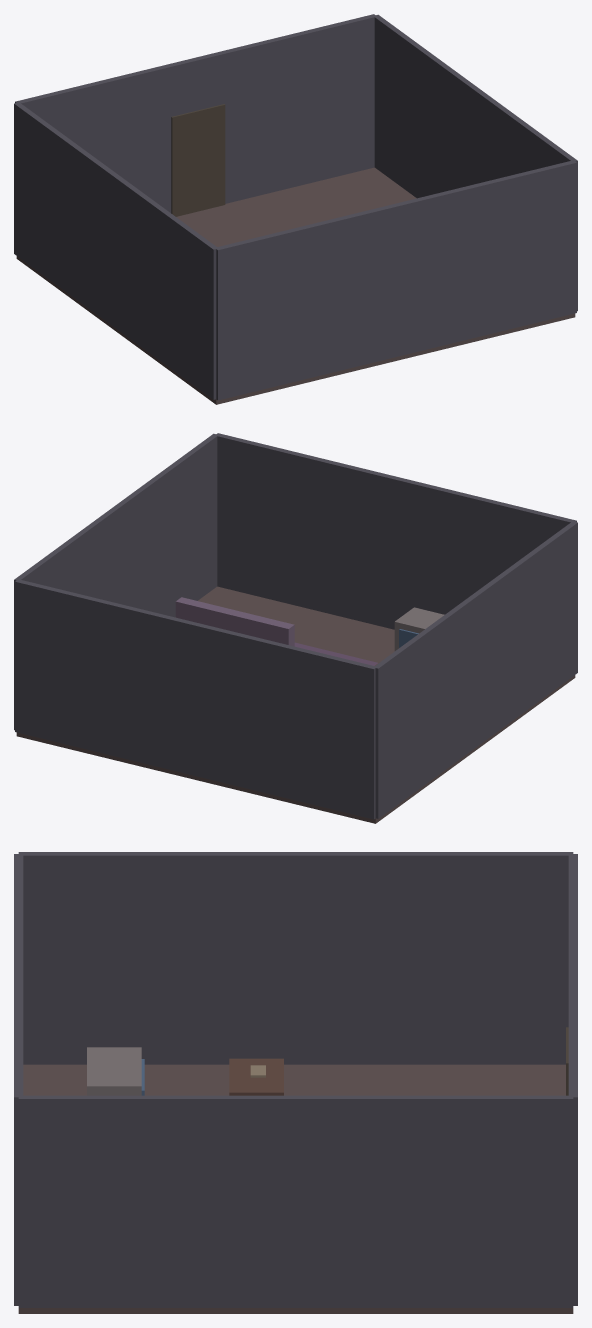
File: salaIncompleta.obj
The picture shows the model from 3 angles, top to bottom: view 1: azimuth 30°, elevation 25°; view 2: azimuth 150°, elevation 25°; view 3: azimuth 270°, elevation 25°; orthographic projection. The views are drawn at different scales.
Parts seen in each view (by area): view 1: salaIncompleta_c2_12, salaIncompleta_c2_13, salaIncompleta_c2_10, salaIncompleta_c2_11, salaIncompleta_c2_9, salaIncompleta_c2_14; view 2: salaIncompleta_c2_13, salaIncompleta_c2_12, salaIncompleta_c2_10, salaIncompleta_c2_11, salaIncompleta_c2_9, salaIncompleta_c2_17, salaIncompleta_c2_20; view 3: salaIncompleta_c2_11, salaIncompleta_c2_10, salaIncompleta_c2_9, salaIncompleta_c2_13, salaIncompleta_c2_12, salaIncompleta_c2_20, salaIncompleta_c2_18.
Part boxes in pixels (x1,y1,x2,y2): salaIncompleta_c2_12: (215,160,576,400); salaIncompleta_c2_13: (15,14,375,212); salaIncompleta_c2_10: (14,103,217,399); salaIncompleta_c2_11: (373,14,577,311); salaIncompleta_c2_9: (16,167,575,404); salaIncompleta_c2_14: (171,104,225,216); salaIncompleta_c2_13: (15,579,376,819); salaIncompleta_c2_12: (216,433,576,629); salaIncompleta_c2_10: (373,522,577,818); salaIncompleta_c2_11: (14,433,218,730); salaIncompleta_c2_9: (16,586,575,823); salaIncompleta_c2_17: (175,597,294,646); salaIncompleta_c2_20: (394,607,444,650); salaIncompleta_c2_11: (18,1095,573,1307); salaIncompleta_c2_10: (18,852,573,1064); salaIncompleta_c2_9: (18,1064,573,1313); salaIncompleta_c2_13: (568,854,577,1305); salaIncompleta_c2_12: (14,854,23,1305); salaIncompleta_c2_20: (87,1047,141,1095); salaIncompleta_c2_18: (229,1058,283,1095).
Bounding box in the file's own units: 13.7 × 5.6 × 13.22.
